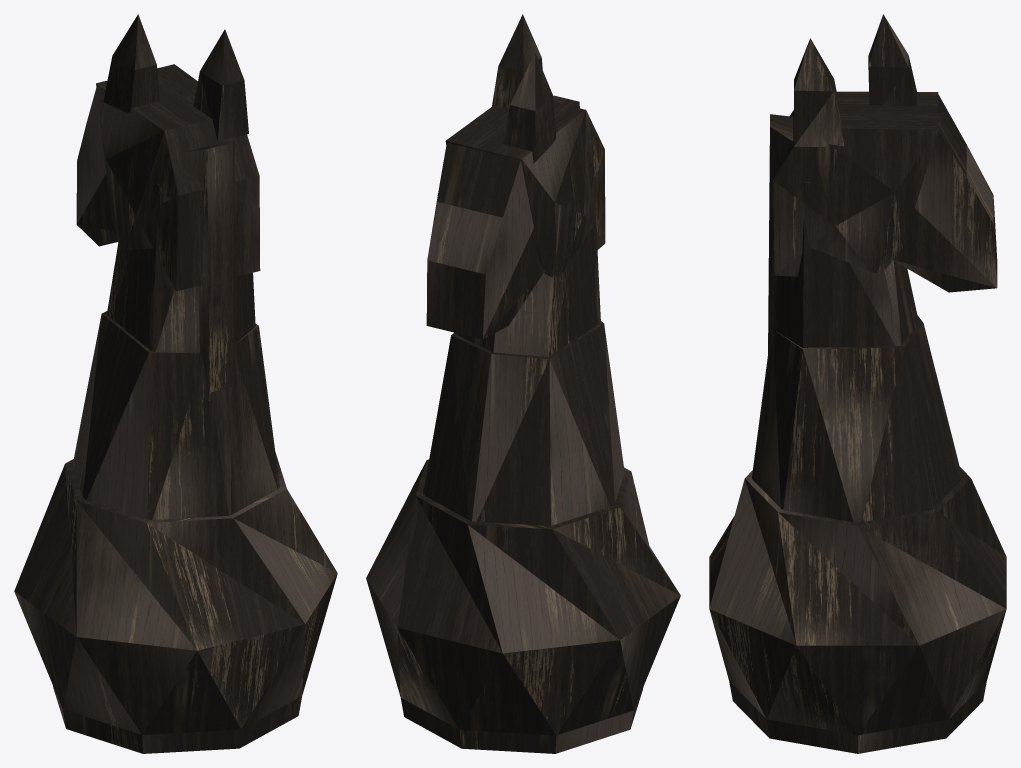
File: knight-black.glb
3 renders of one model, left to right at view 1: azimuth 30°, elevation 25°; view 2: azimuth 150°, elevation 25°; view 3: azimuth 270°, elevation 25°, orthographic. The views are drawn at different scales.
Parts seen in each view (by area): view 1: Lithoxyl_Knight_Onyx; view 2: Lithoxyl_Knight_Onyx; view 3: Lithoxyl_Knight_Onyx.
Boxes of the visible parts, box(x1,y1,x2,y2) form: Lithoxyl_Knight_Onyx: box(14, 14, 337, 753); Lithoxyl_Knight_Onyx: box(366, 14, 680, 753); Lithoxyl_Knight_Onyx: box(709, 14, 1006, 753).
Bounding box in the file's own units: 0.443 × 1.11 × 0.443.
1 material, 1 textured.
